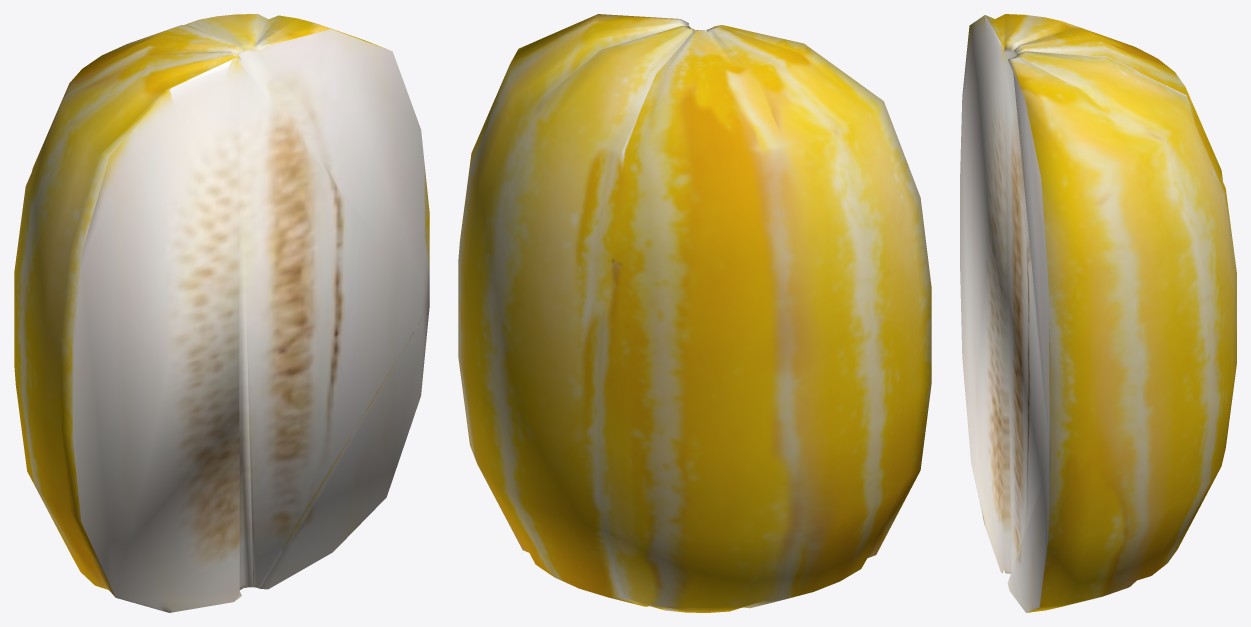
File: koreamelon_side.gltf
The picture shows the model from 3 angles, left to right: view 1: azimuth 30°, elevation 25°; view 2: azimuth 150°, elevation 25°; view 3: azimuth 270°, elevation 25°; orthographic projection. The views are drawn at different scales.
Visible parts, largest first — view 1: Kmelon; view 2: Kmelon; view 3: Kmelon.
Part boxes in pixels (<box>): Kmelon: <box>14,14,429,612</box>; Kmelon: <box>458,14,931,612</box>; Kmelon: <box>960,14,1236,612</box>.
Size of the model in its own units: 2.08 by 2.65 by 1.26.
1 material, 1 textured.
